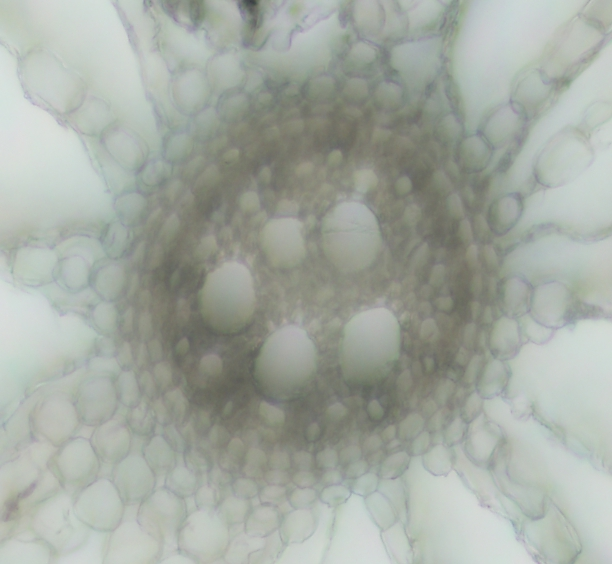lm: (337, 306, 403, 388), (251, 324, 319, 403), (319, 200, 384, 276), (196, 260, 257, 334), (258, 215, 309, 272)
